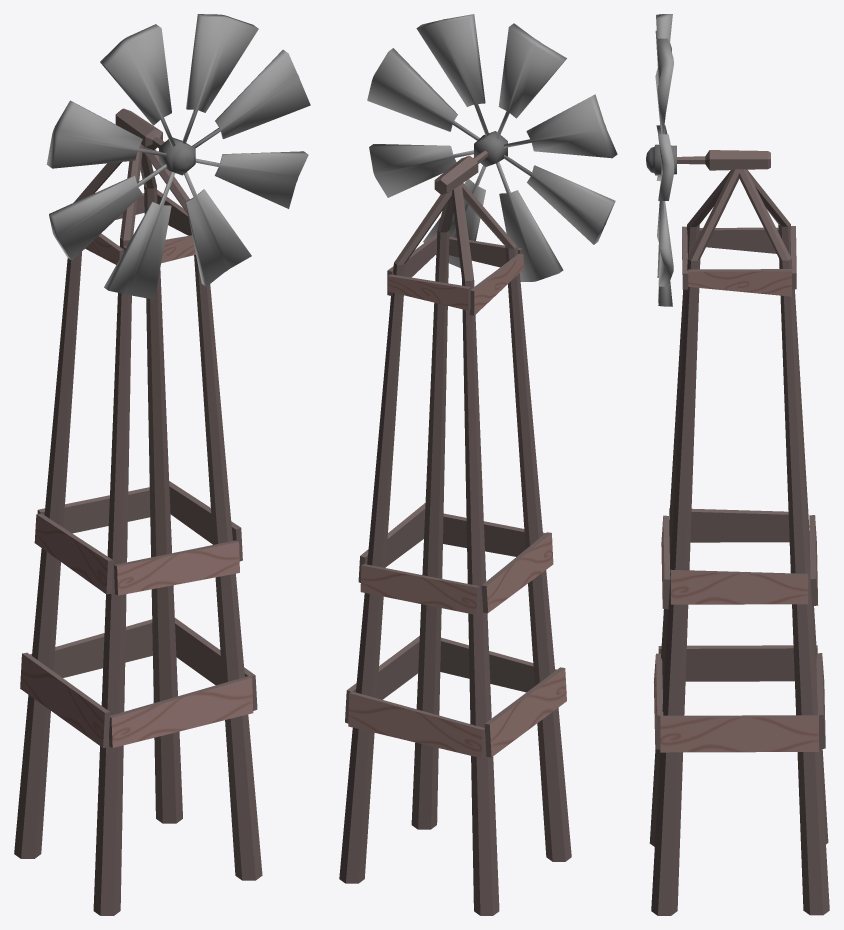
File: windmill.fbx
3 renders of one model, left to right at view 1: azimuth 30°, elevation 25°; view 2: azimuth 150°, elevation 25°; view 3: azimuth 270°, elevation 25°, orthographic. The views are drawn at different scales.
Parts seen in each view (by area): view 1: windmill; view 2: windmill; view 3: windmill.
Boxes of the visible parts, bbox=[...] form: windmill: bbox=[14, 14, 310, 915]; windmill: bbox=[339, 14, 617, 915]; windmill: bbox=[646, 14, 829, 915].
Bounding box in the file's own units: 327 × 1049 × 206.
